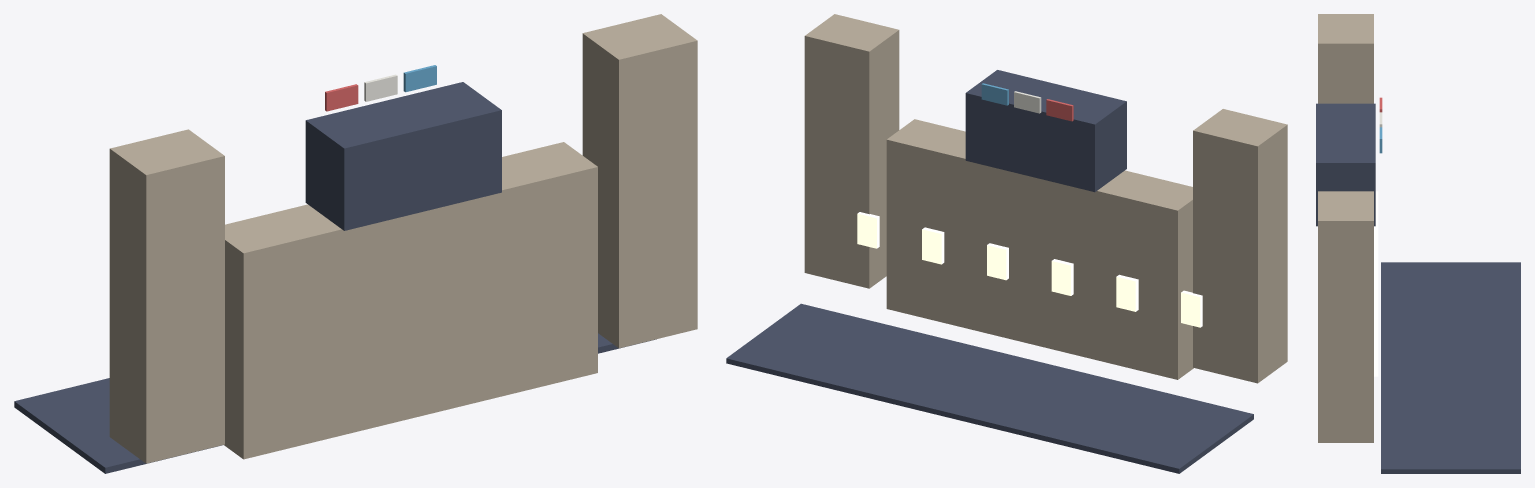
Rendered from palacio_visual_v1.glb.
3 views of the same model, side by side, from view 1: azimuth 30°, elevation 25°; view 2: azimuth 150°, elevation 25°; view 3: azimuth 270°, elevation 25° (orthographic). The views are drawn at different scales.
Parts seen in each view (by area): view 1: PalaceBody, Tower, Tower.001, Roof, Plaza, Flag0, Flag1, Flag2; view 2: PalaceBody, Plaza, Tower, Tower.001, Roof, Win1, Win4, Win2, Win5, Win3, Win0; view 3: Plaza, Tower.001, Roof, Tower.
Boxes of the visible parts, x1,y1,x2,y2 form: PalaceBody: [224, 142, 597, 459]; Tower: [109, 129, 224, 463]; Tower.001: [582, 14, 697, 348]; Roof: [305, 82, 501, 230]; Plaza: [14, 333, 656, 473]; Flag0: [325, 84, 358, 111]; Flag1: [364, 74, 397, 101]; Flag2: [403, 65, 436, 92]; PalaceBody: [886, 119, 1193, 379]; Plaza: [726, 303, 1253, 473]; Tower: [1193, 109, 1287, 383]; Tower.001: [804, 14, 899, 288]; Roof: [965, 70, 1126, 192]; Win1: [1116, 274, 1138, 311]; Win4: [922, 227, 944, 264]; Win2: [1051, 259, 1073, 295]; Win5: [857, 212, 879, 248]; Win3: [987, 243, 1008, 280]; Win0: [1181, 290, 1202, 327]; Plaza: [1381, 262, 1520, 473]; Tower.001: [1318, 191, 1373, 442]; Roof: [1316, 103, 1375, 226]; Tower: [1318, 14, 1373, 103].
Bounding box in the file's own units: 28 × 15.95 × 11.7.
